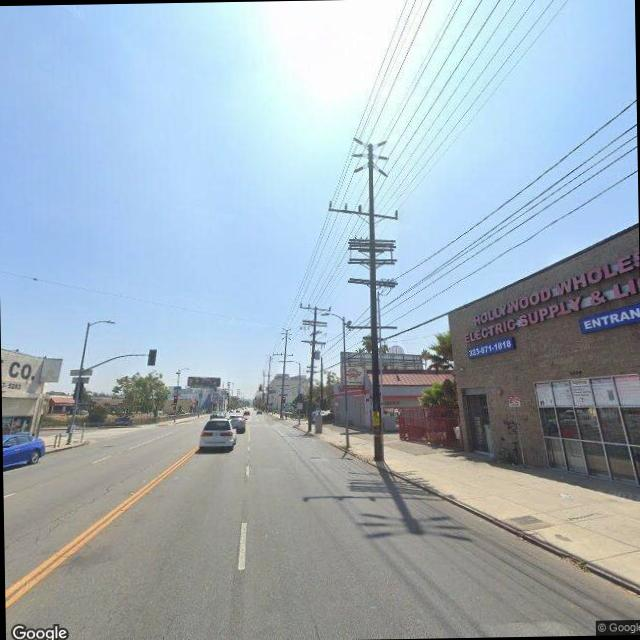pothole: (22, 466, 144, 542)
